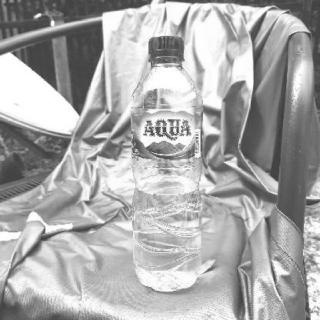plastic_bottles: (131, 34, 207, 292)
